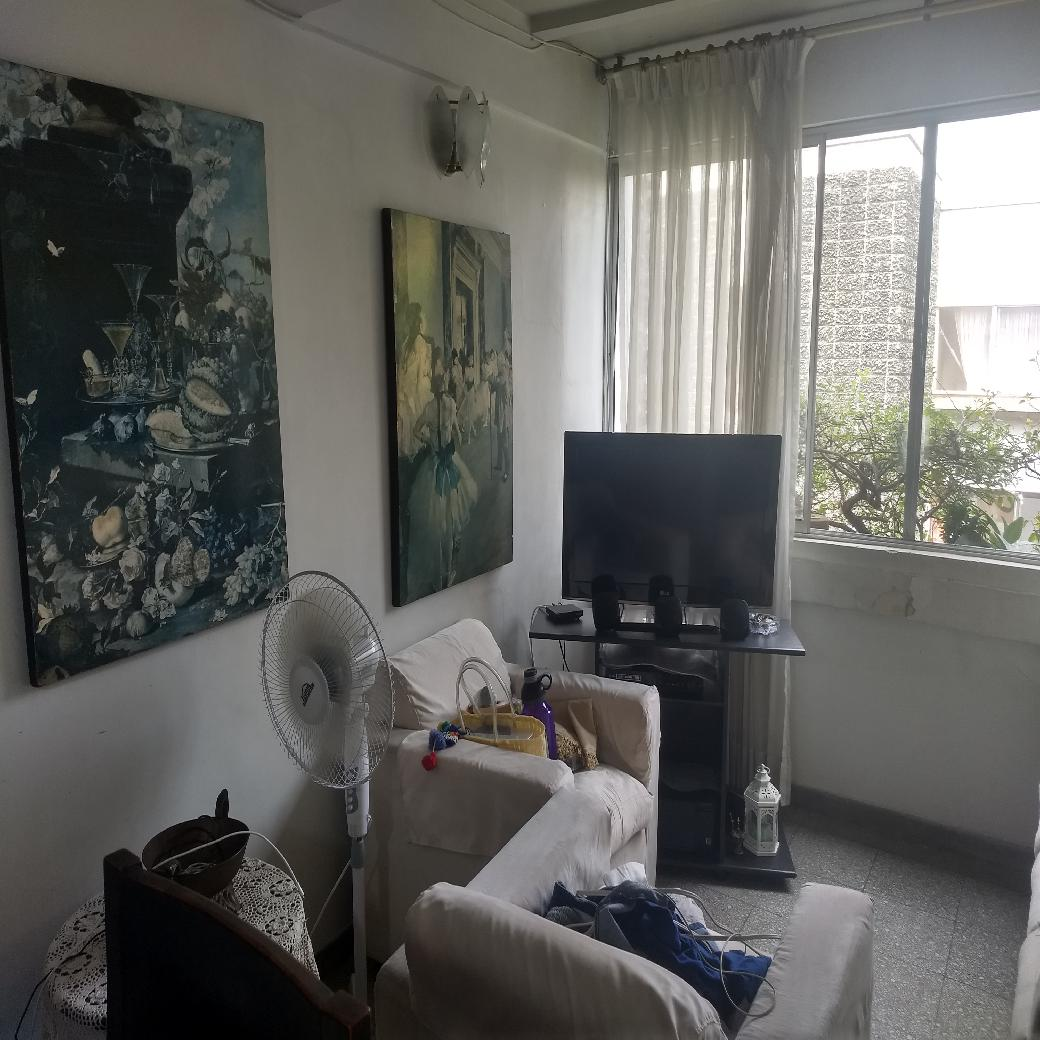tv: (561, 431, 778, 610)
ventilador: (251, 569, 401, 792)
